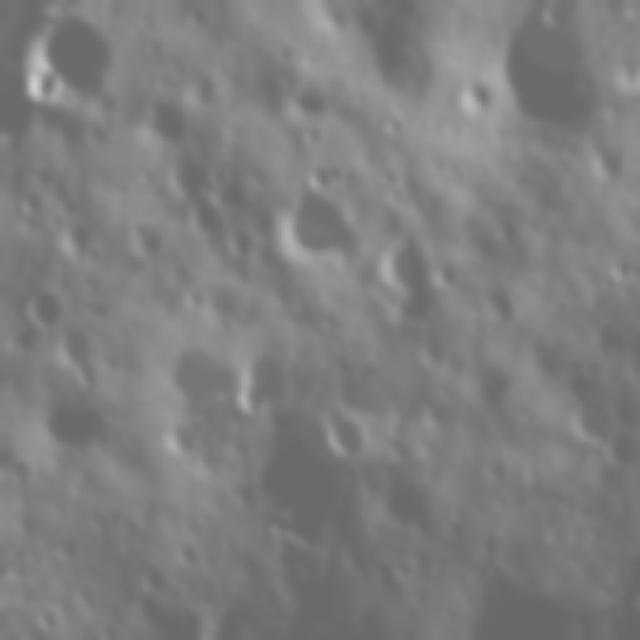crater: (486, 1, 599, 128), (21, 7, 118, 107), (149, 337, 237, 418), (281, 188, 359, 262), (228, 344, 297, 419), (34, 390, 106, 448), (56, 318, 104, 389), (559, 395, 615, 450), (318, 401, 365, 462), (137, 94, 192, 143), (448, 72, 495, 125), (388, 238, 430, 291), (478, 281, 518, 330), (180, 198, 226, 237), (154, 418, 200, 456), (24, 290, 67, 328), (408, 397, 454, 432), (170, 158, 216, 192), (52, 224, 96, 259), (589, 142, 625, 182), (253, 509, 295, 540), (598, 252, 631, 286), (130, 223, 161, 259), (14, 184, 46, 218), (134, 566, 174, 592), (128, 158, 160, 190), (573, 348, 604, 380), (169, 538, 200, 570), (492, 212, 519, 248), (231, 225, 255, 261), (35, 604, 60, 634), (182, 5, 215, 27), (8, 449, 27, 485), (392, 553, 416, 581), (582, 522, 610, 546), (27, 165, 56, 187), (538, 524, 568, 545), (518, 462, 544, 486), (299, 124, 326, 147), (434, 262, 458, 287), (488, 489, 512, 513), (382, 182, 406, 206), (570, 501, 596, 522), (182, 285, 201, 313), (478, 533, 502, 555), (375, 286, 396, 311), (374, 163, 401, 182), (97, 618, 120, 640), (14, 514, 38, 535), (428, 156, 450, 178), (384, 114, 407, 135), (366, 518, 385, 537), (367, 342, 384, 363)
